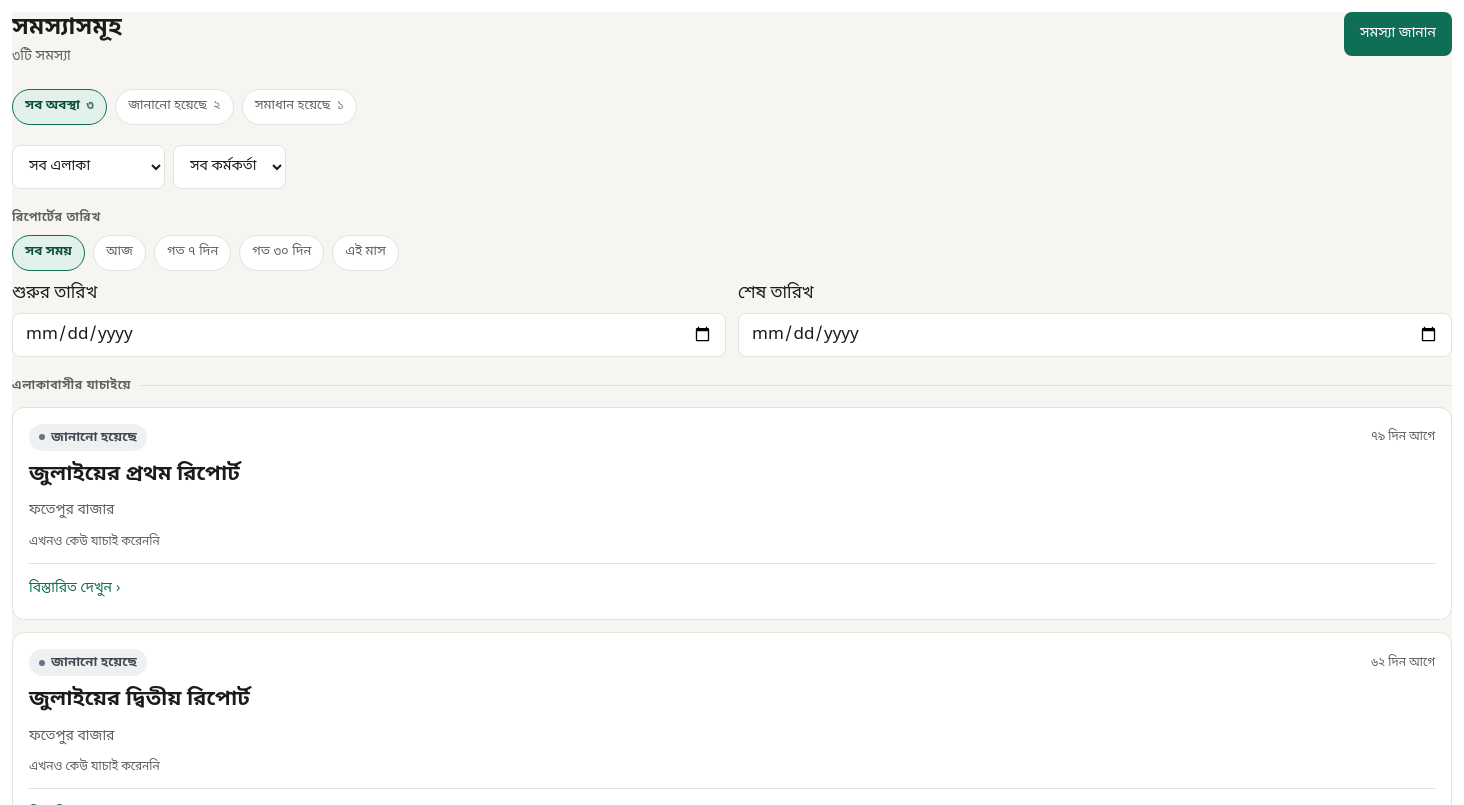
Test: ProblemFeed date filter › recounts the status chips against the chosen span
The image size is (1464, 805).
Check: the heading "জুলাইয়ের প্রথম রিপোর্ট" is shown, box [29, 461, 240, 489]
Check: the button "সমাধান হয়েছে ১" is shown, box [242, 89, 357, 125]
Type "2026-07-01" into the date field labelled "শুরুর তারিখ". click: (369, 334)
box: [12, 312, 726, 356]
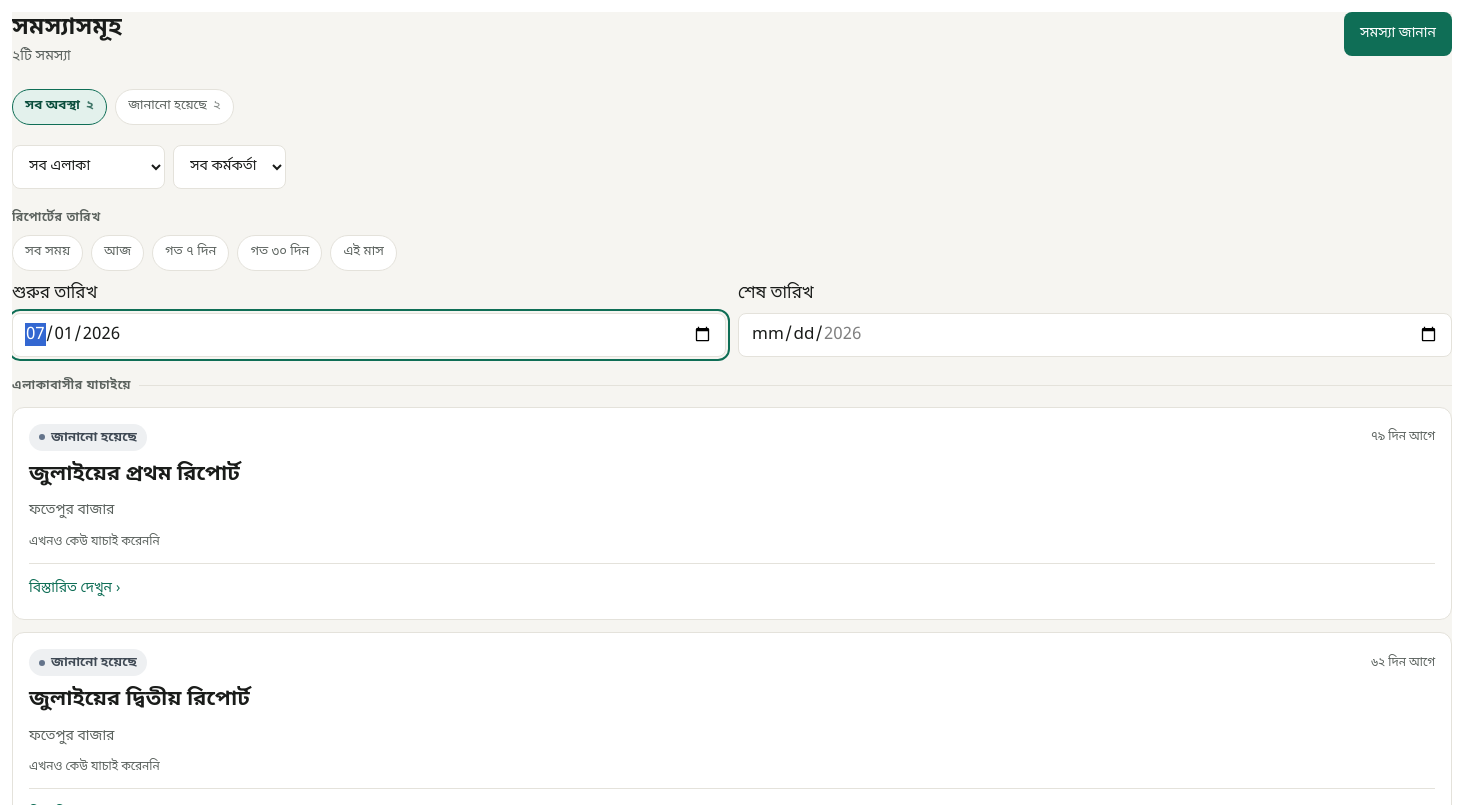
Check: the button "সমাধান হয়েছে" is gone
Check: the button "সব অবস্থা ২" is shown, box [12, 89, 107, 125]
